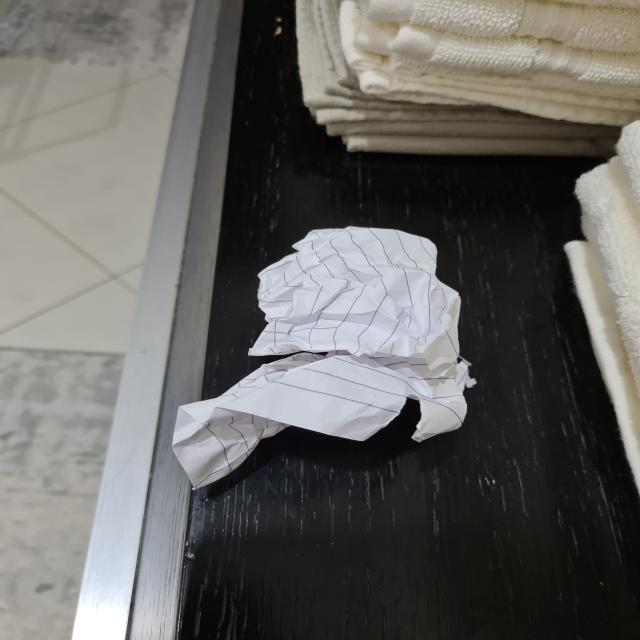Paper: (166, 226, 469, 488)
